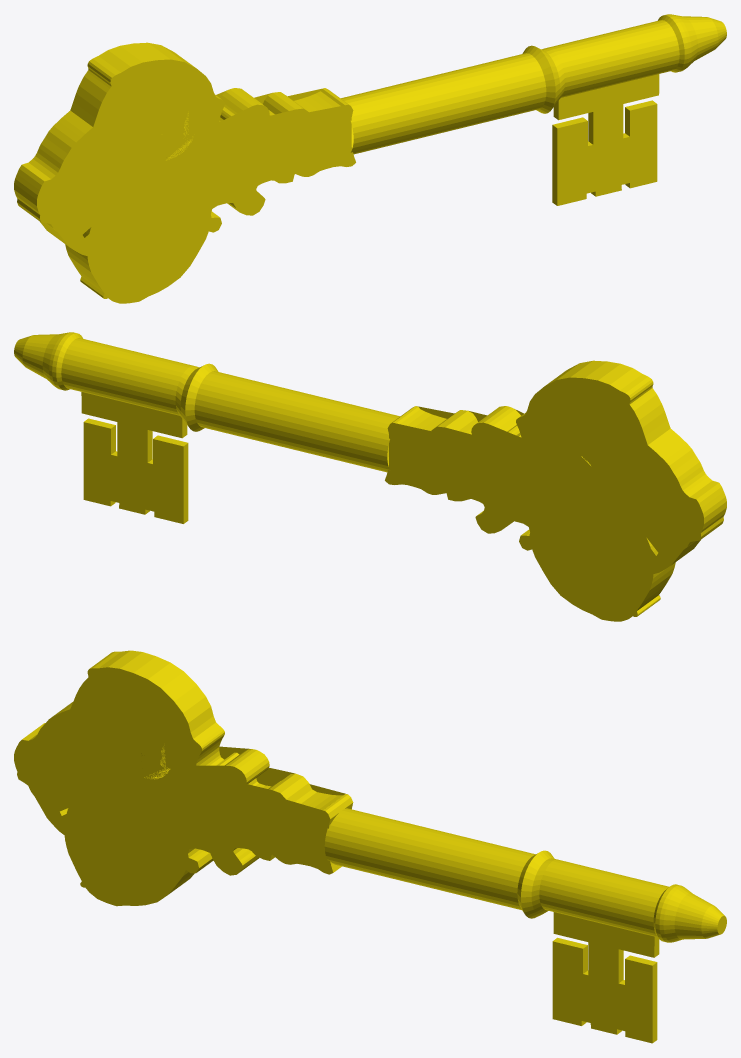
Rendered from anahtarfix.fbx.
The picture shows the model from 3 angles, top to bottom: view 1: azimuth 30°, elevation 25°; view 2: azimuth 150°, elevation 25°; view 3: azimuth 330°, elevation 25°; orthographic projection.
Parts seen in each view (by area): view 1: Vert; view 2: Vert; view 3: Vert.
Part boxes in pixels (<box>): Vert: <box>14,14,726,303</box>; Vert: <box>14,332,726,621</box>; Vert: <box>14,650,726,1043</box>.
Bounding box in the file's own units: 452 × 157 × 39.2.
